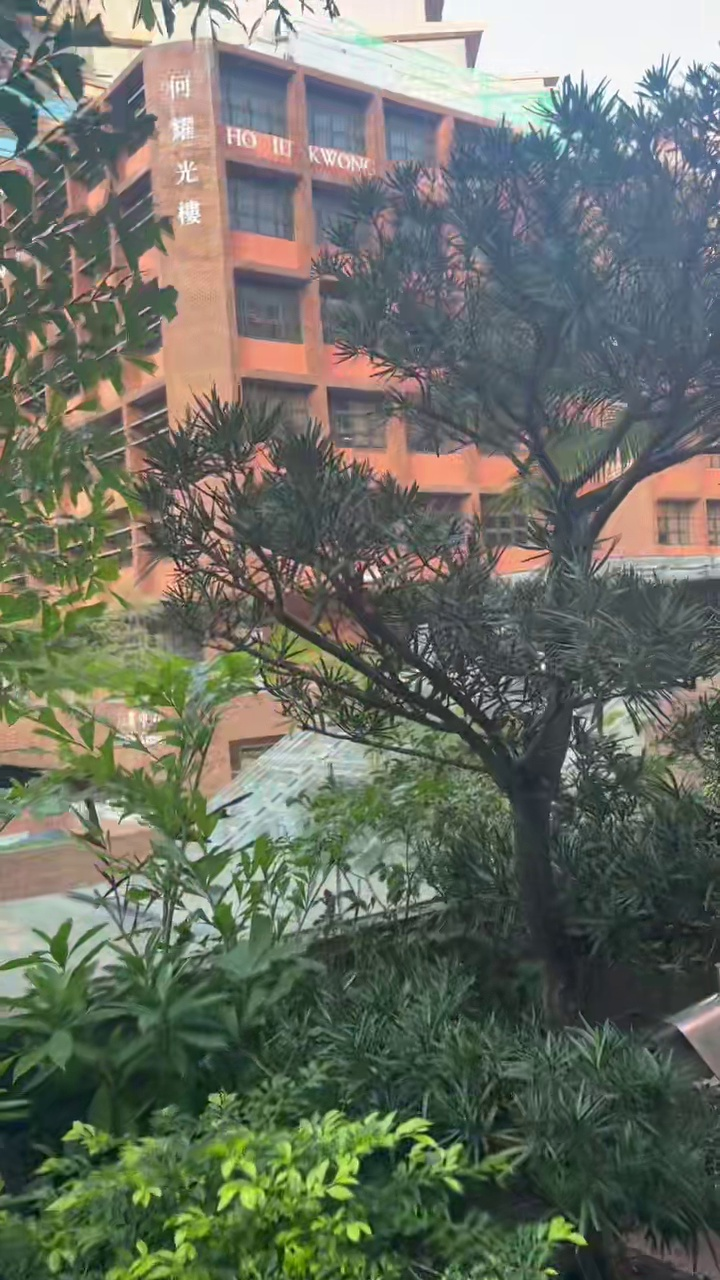Podocarpus macrophyllus: (143, 64, 719, 1011)
